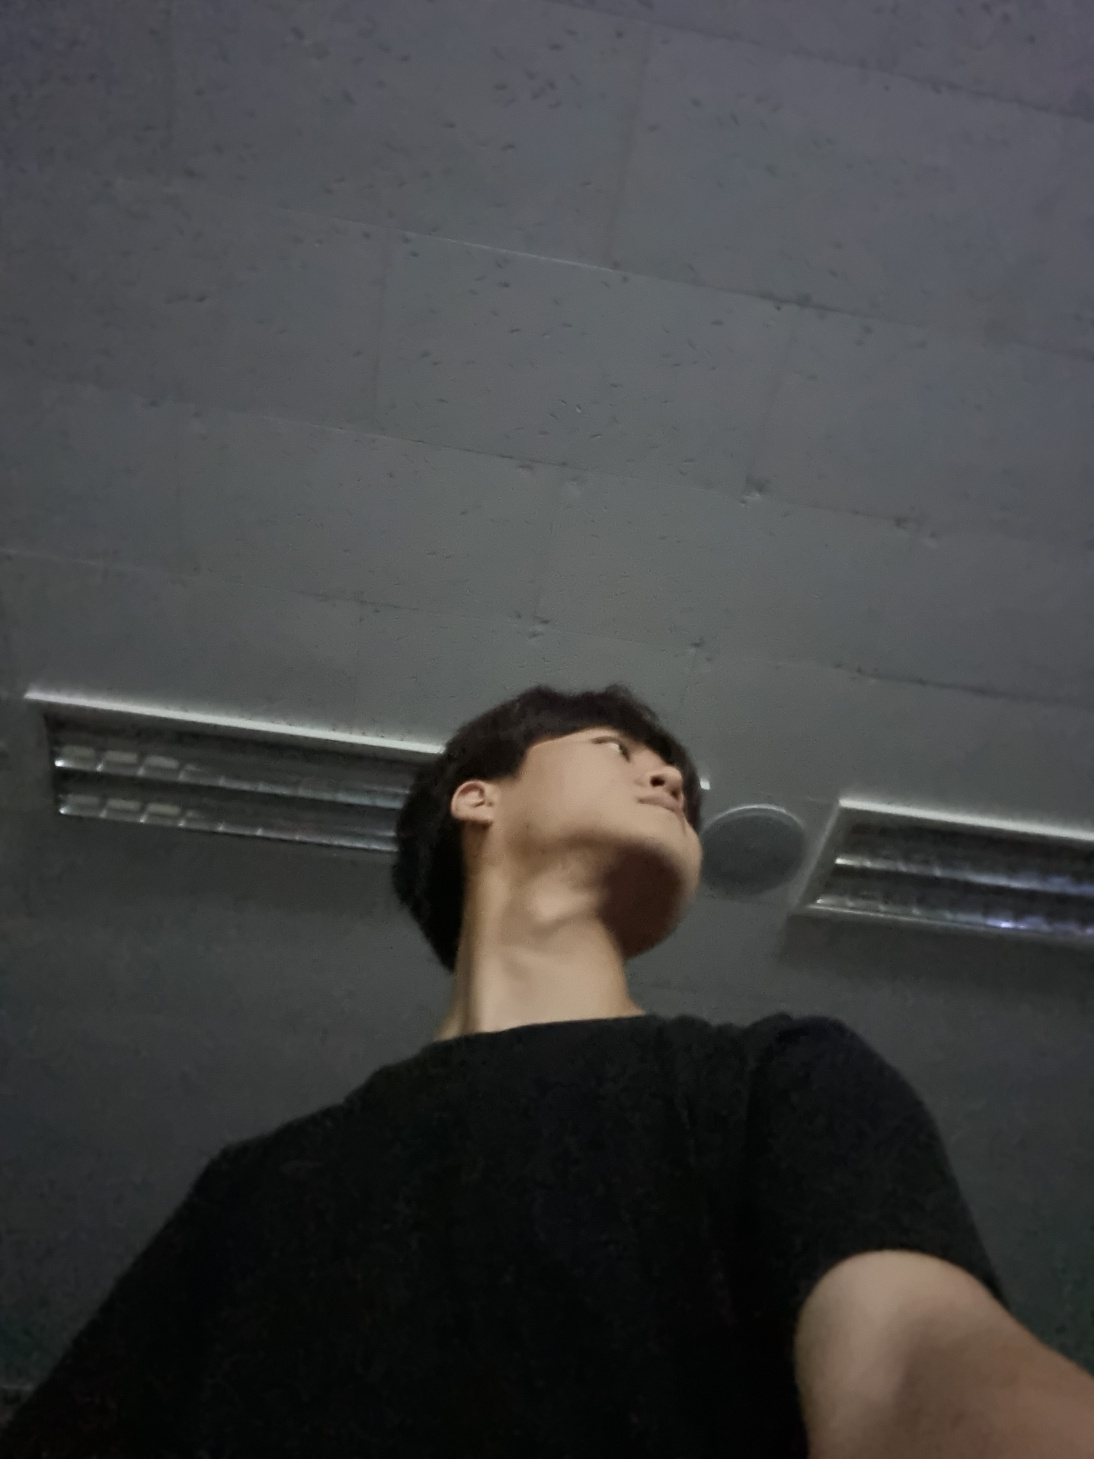Non-Helmet: (306, 628, 754, 1047)
